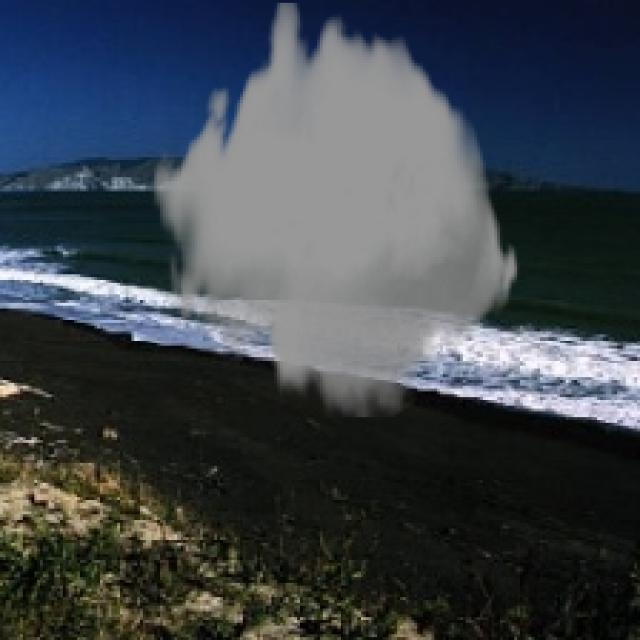smoke: (151, 3, 520, 417)
